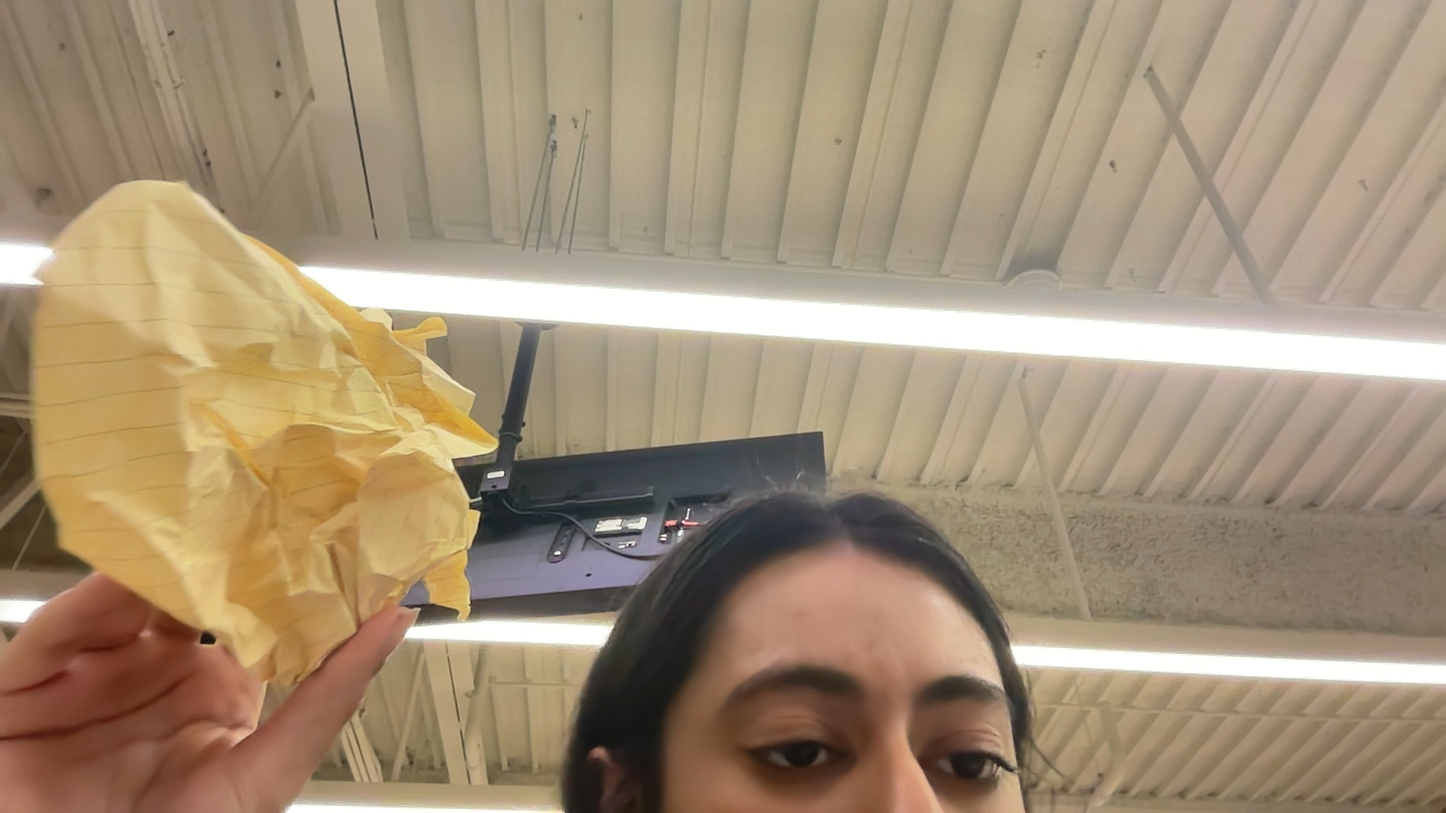Plastic: (0, 238, 57, 283)
